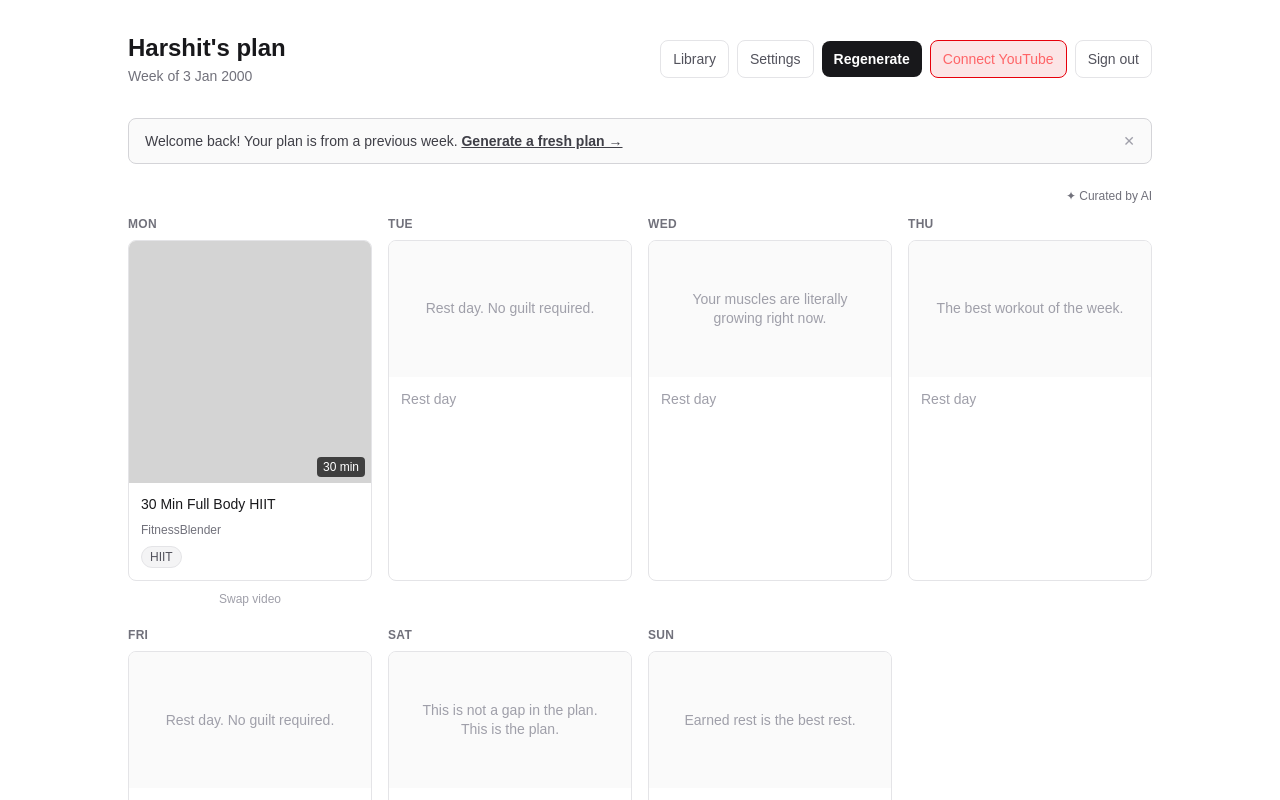
Scenario: DashboardPage - stale plan banner › dismisses banner when ✕ is clicked
Expected: the text "Welcome back" is shown, top-left (145, 133), bottom-right (458, 149)
Note: The stale banner's ✕ is the only dismiss button when no announcement is shown
Click the button "✕" at [1129, 141], box top-left (1123, 131), bottom-right (1135, 151)
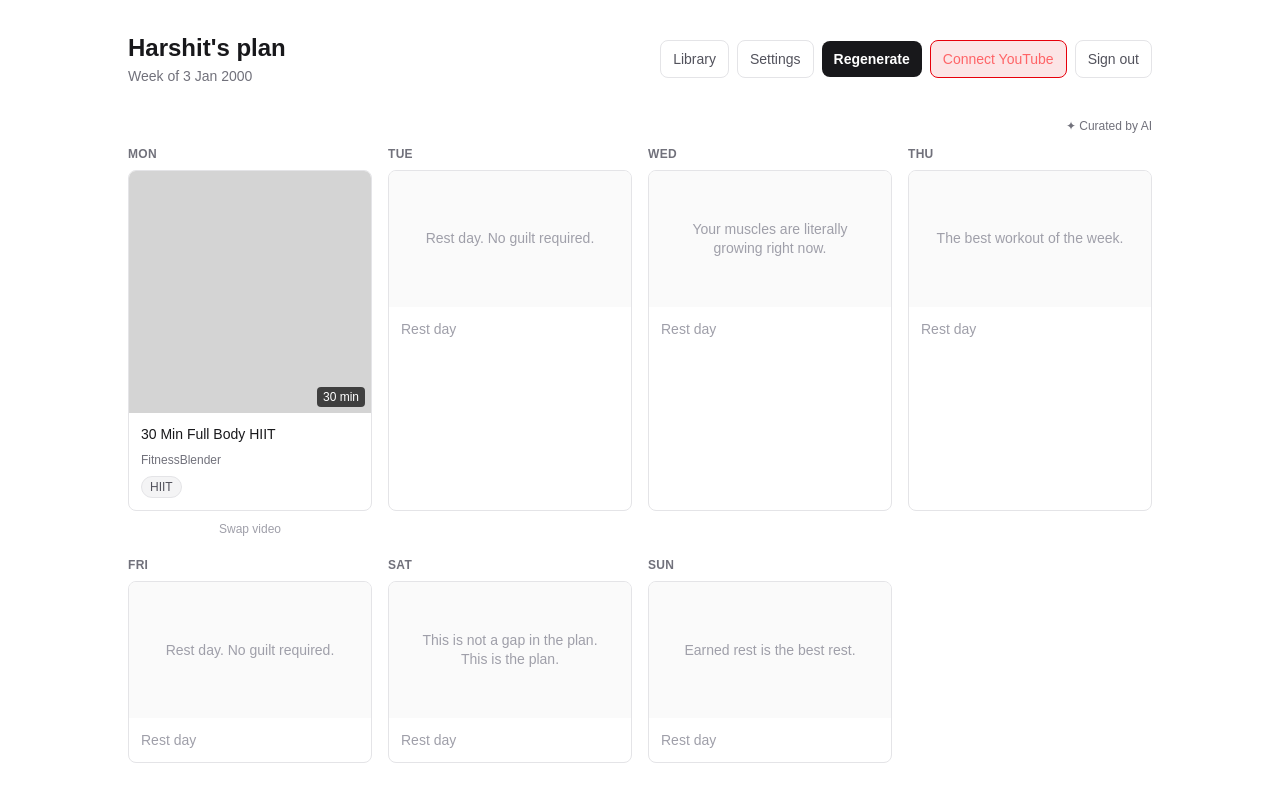
Expected: the text "Welcome back" is gone
